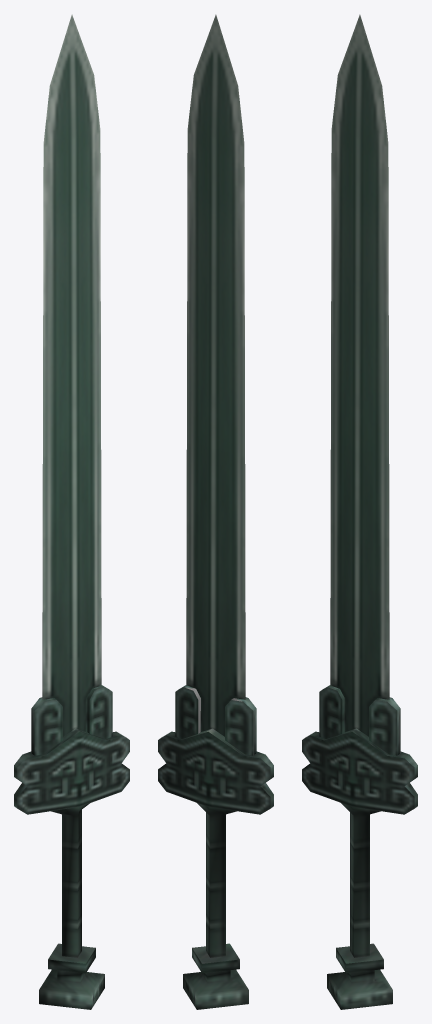
Rendered from Sword30.FBX.
3 renders of one model, left to right at view 1: azimuth 30°, elevation 25°; view 2: azimuth 150°, elevation 25°; view 3: azimuth 330°, elevation 25°, orthographic.
Parts seen in each view (by area): view 1: Sword30; view 2: Sword30; view 3: Sword30.
Boxes of the visible parts, x1=… form: Sword30: x1=14, y1=14, x2=129, y2=1009; Sword30: x1=158, y1=14, x2=273, y2=1009; Sword30: x1=302, y1=14, x2=417, y2=1009.
Size of the model in its own units: 13.7 by 114 by 8.07.
